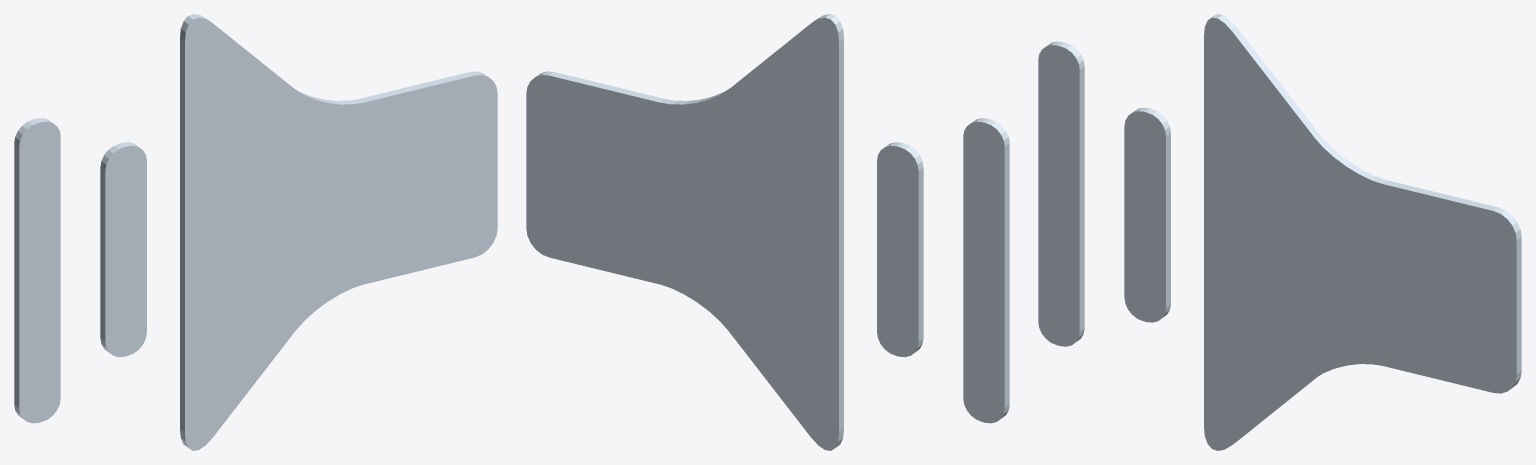
File: Volume_Medium_3D_Icon.fbx
3 views of the same model, side by side, from view 1: azimuth 30°, elevation 25°; view 2: azimuth 150°, elevation 25°; view 3: azimuth 330°, elevation 25° (orthographic).
Visible parts, largest first — view 1: Volume_Medium_3D_Icon_02; view 2: Volume_Medium_3D_Icon_02; view 3: Volume_Medium_3D_Icon_02.
Part boxes in pixels (x1,y1,x2,y2): Volume_Medium_3D_Icon_02: [14, 14, 497, 450]; Volume_Medium_3D_Icon_02: [526, 14, 1009, 450]; Volume_Medium_3D_Icon_02: [1038, 14, 1521, 450].
Bounding box in the file's own units: 111 × 95.84 × 2.
